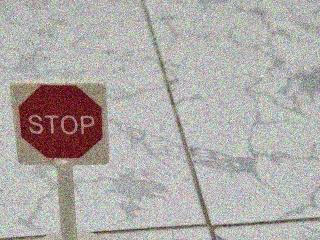stop: (7, 75, 119, 173)
